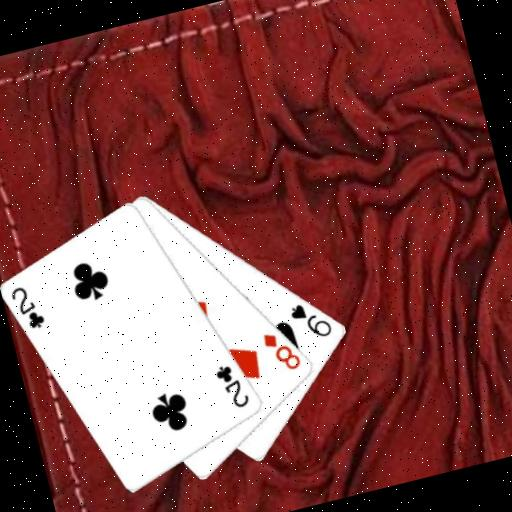2C: (210, 358, 253, 414), (6, 280, 49, 336)
8D: (258, 324, 305, 377)
9S: (286, 294, 336, 346)
